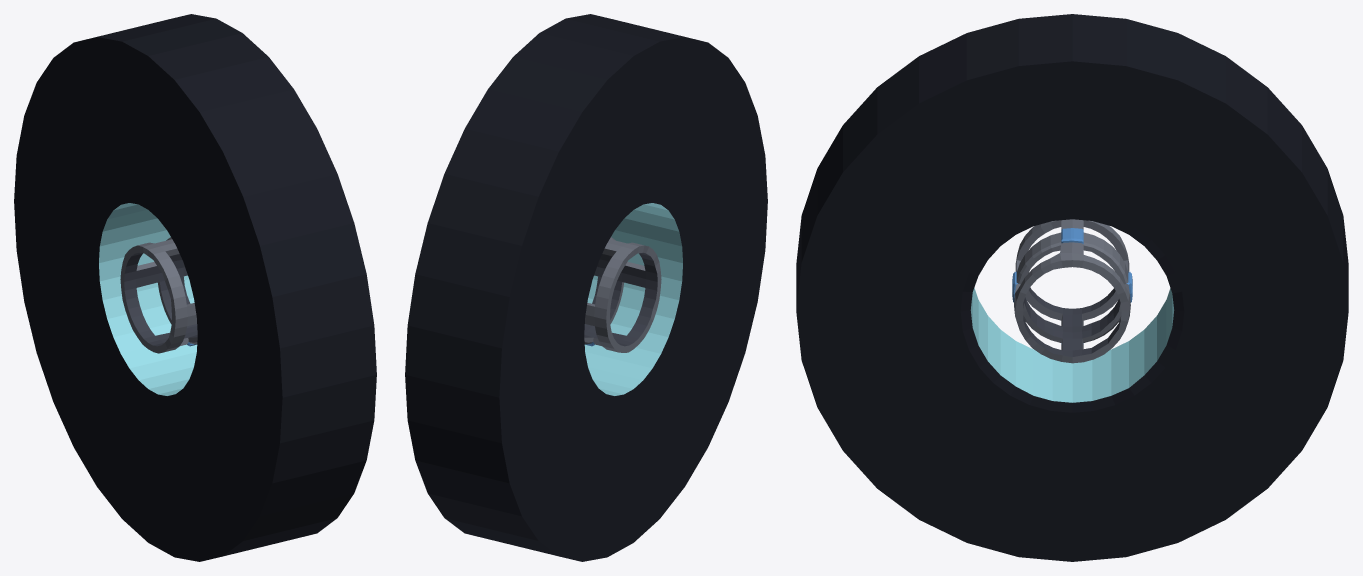
File: TunnelThing.fbx
3 renders of one model, left to right at view 1: azimuth 30°, elevation 25°; view 2: azimuth 150°, elevation 25°; view 3: azimuth 270°, elevation 25°, orthographic. The views are drawn at different scales.
Parts seen in each view (by area): view 1: Tunnel; view 2: Tunnel; view 3: Tunnel.
Boxes of the visible parts, x1,y1,x2,y2 form: Tunnel: [14, 14, 376, 561]; Tunnel: [405, 14, 767, 561]; Tunnel: [796, 14, 1348, 561].
Bounding box in the file's own units: 1575 × 7736 × 7736.
